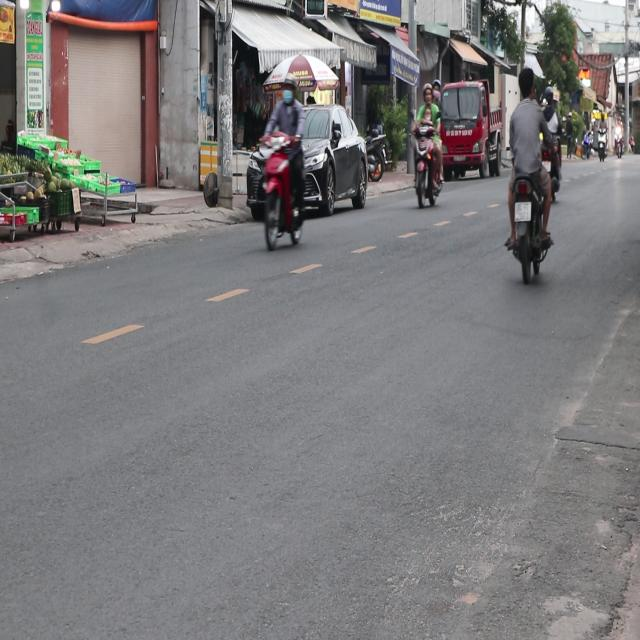helmet: (280, 76, 295, 103), (422, 81, 432, 104), (432, 80, 441, 100)
licenseplate: (502, 64, 555, 282), (253, 69, 308, 252), (408, 80, 444, 208)
motorcyclist: (516, 66, 535, 100), (422, 104, 432, 122)
nohelmet: (514, 201, 531, 220)
